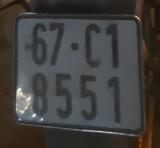1: (103, 70, 128, 122), (103, 19, 124, 70)
5: (76, 69, 98, 127), (54, 67, 75, 125)
6: (27, 17, 51, 70)
7: (48, 19, 65, 71)
8: (26, 67, 51, 120)
C: (82, 19, 103, 69)
